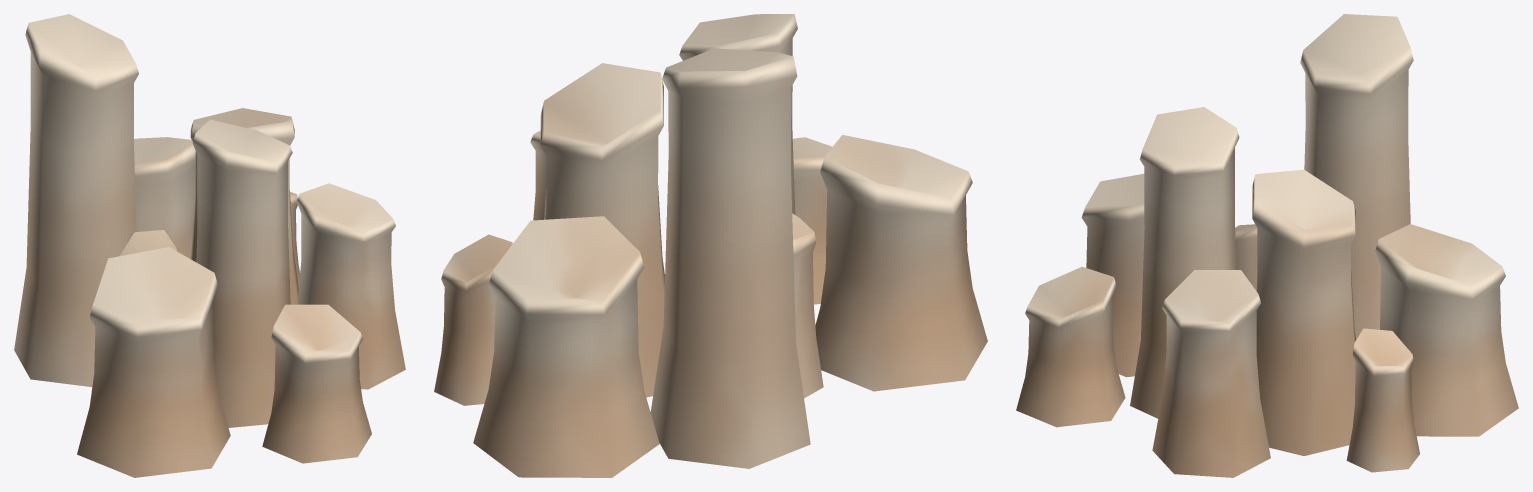
File: Candles.fbx
3 renders of one model, left to right at view 1: azimuth 30°, elevation 25°; view 2: azimuth 150°, elevation 25°; view 3: azimuth 270°, elevation 25°, orthographic. The views are drawn at different scales.
Visible parts, largest first — view 1: Candles_001; view 2: Candles_001; view 3: Candles_001.
Part boxes in pixels (x1,y1,x2,y2): Candles_001: (14, 14, 405, 477); Candles_001: (434, 14, 987, 477); Candles_001: (1016, 14, 1518, 477).
Size of the model in its own units: 0.893 by 0.8275 by 1.14.
